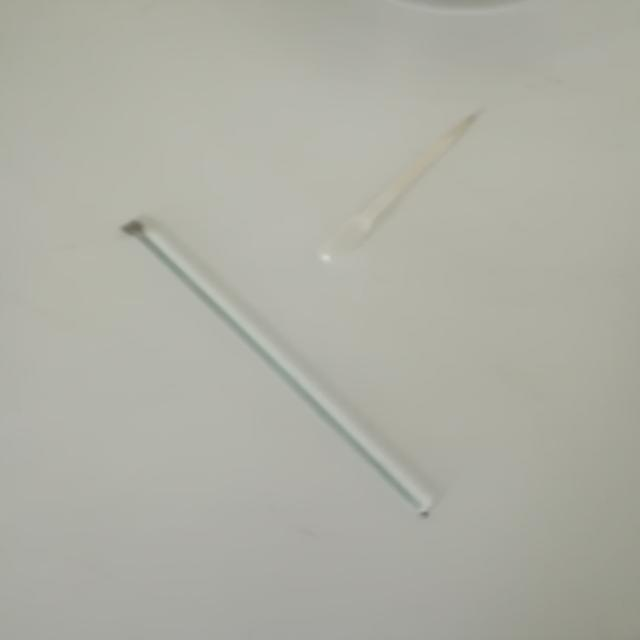Glass_Rod: (102, 200, 456, 542)
Pipette: (294, 75, 523, 270)
